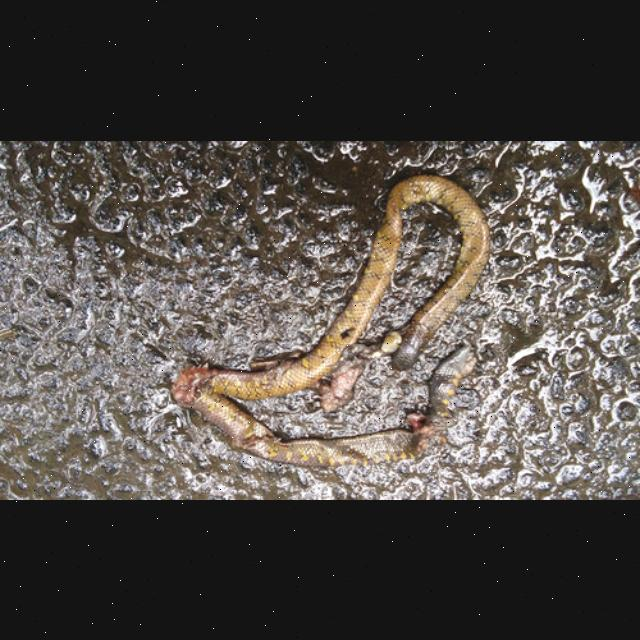snake: (162, 164, 502, 473)
